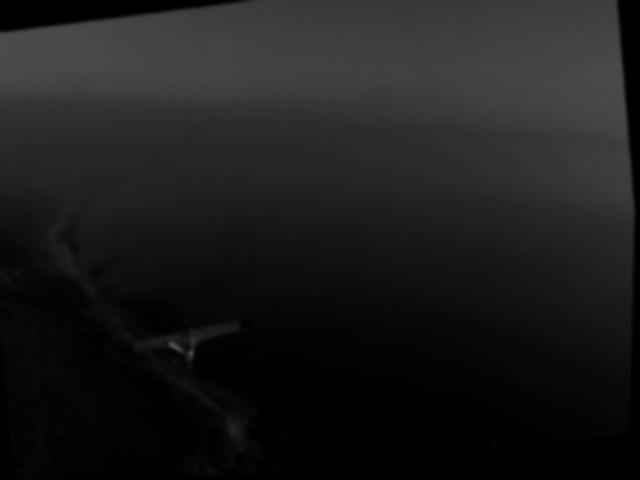hedef: (109, 300, 269, 395)
